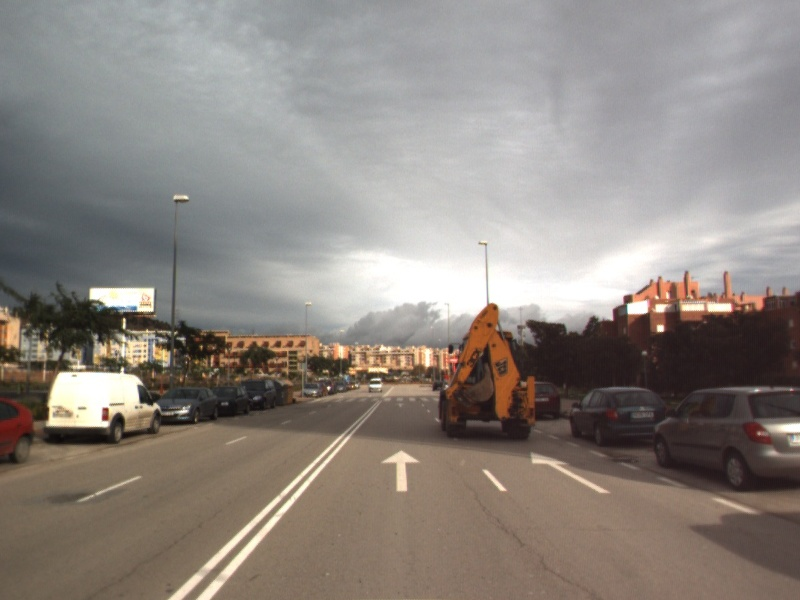STRAIGHT: (529, 449, 613, 495), (379, 448, 422, 494)
